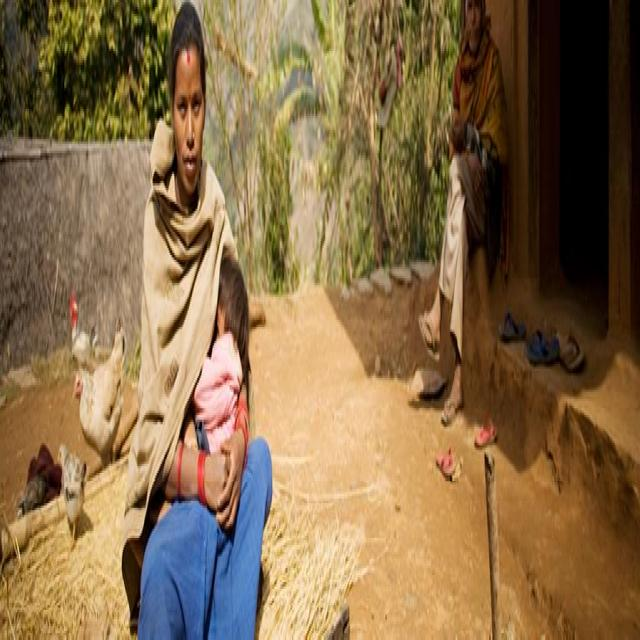nomask: (173, 46, 203, 192), (204, 285, 227, 392), (467, 0, 482, 49)
